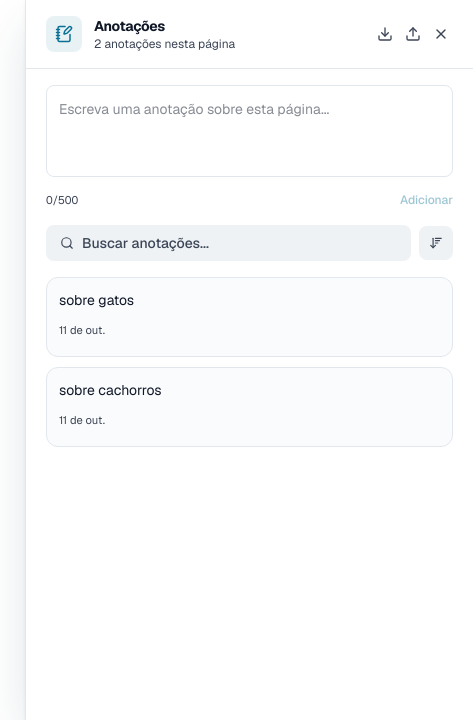
Scenario: AnnotationsPanel › clicking the clear-search button empties the query
The image size is (473, 720).
Step 1. Type "gatos" into the field with placeholder "Buscar anotações..." → {"x": 240, "y": 243}, box [82,233,397,253]
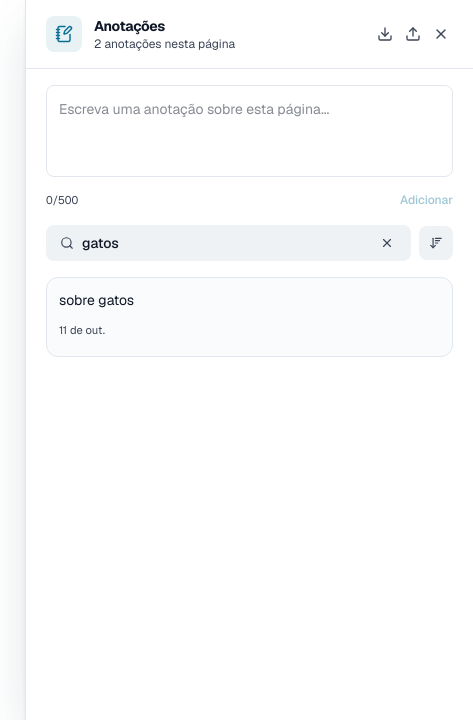
Check: the text "sobre cachorros" is gone
Step 2. Click the button named "Limpar busca" → {"x": 387, "y": 243}, box [377,233,397,253]
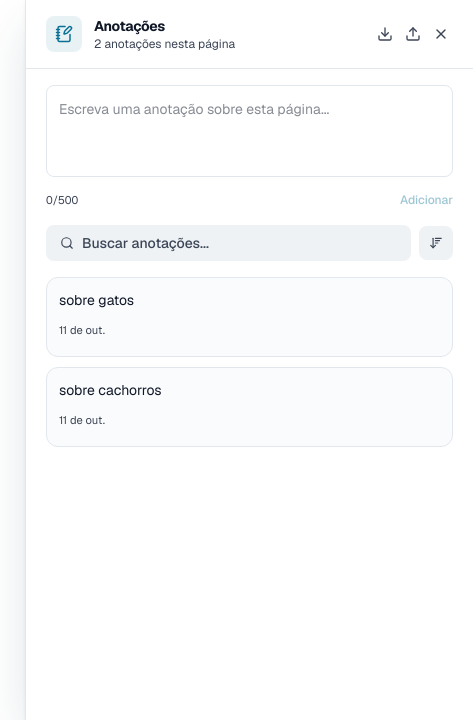
Check: the field with placeholder "Buscar anotações..." is empty, box [82,233,397,253]
Check: the text "sobre cachorros" is shown, box [59,381,162,399]
